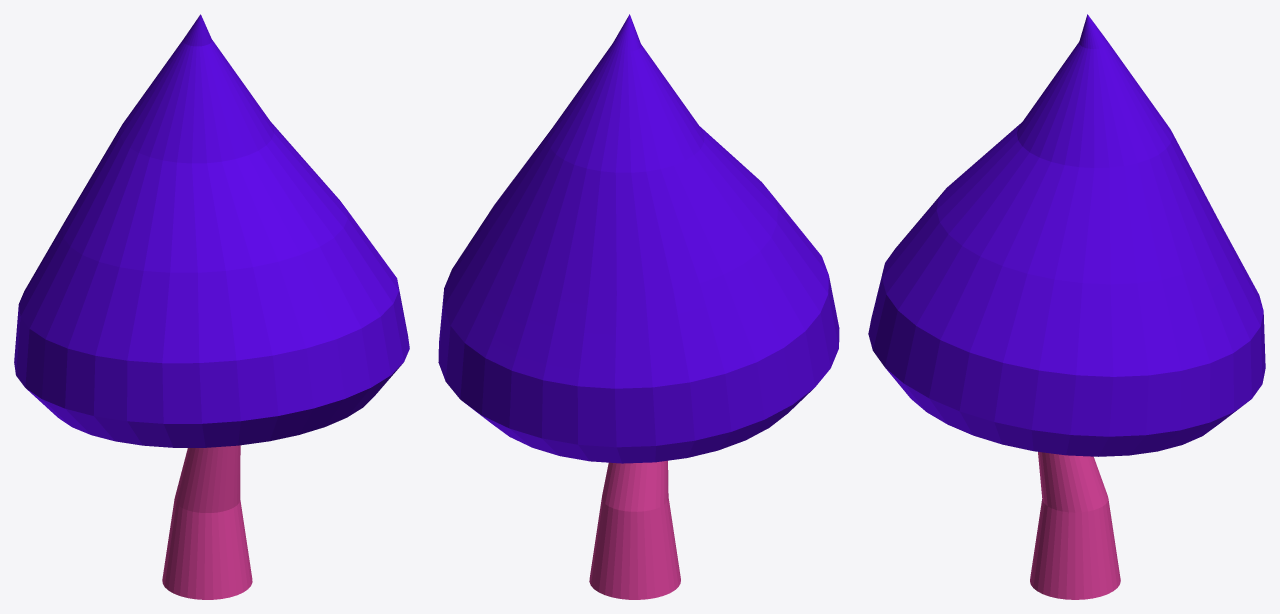
The model's file is Grzybek1.fbx.
3 renders of one model, left to right at view 1: azimuth 30°, elevation 25°; view 2: azimuth 150°, elevation 25°; view 3: azimuth 270°, elevation 25°, orthographic.
Visible parts, largest first — view 1: Circle.004; view 2: Circle.004; view 3: Circle.004.
Boxes of the visible parts, left/top/right/bottom form: Circle.004: left=14, top=14, right=409, bottom=599; Circle.004: left=438, top=14, right=839, bottom=599; Circle.004: left=868, top=14, right=1265, bottom=599.
Bounding box in the file's own units: 878 × 1373 × 873.
